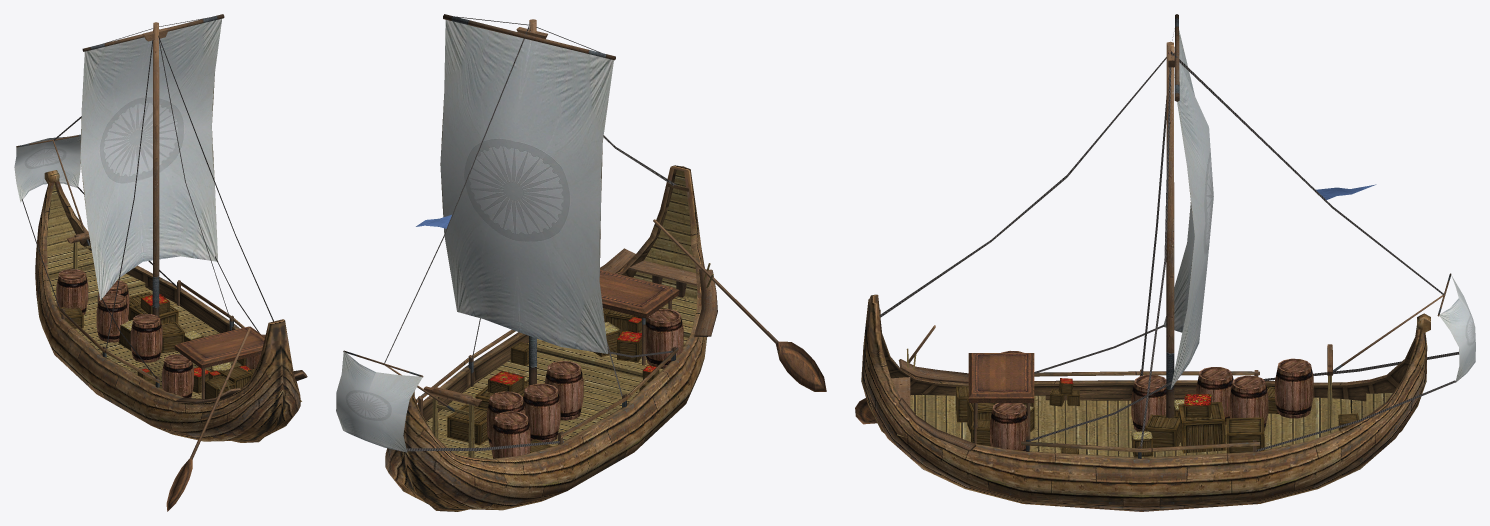
Rendered from maur_merchant_ship.glb.
3 renders of one model, left to right at view 1: azimuth 30°, elevation 25°; view 2: azimuth 150°, elevation 25°; view 3: azimuth 270°, elevation 25°, orthographic. The views are drawn at different scales.
Parts seen in each view (by area): view 1: maur_merchant_ship_part0, maur_merchant_ship_part4, maur_merchant_ship_part2, maur_merchant_ship_part3, maur_merchant_ship_part5; view 2: maur_merchant_ship_part0, maur_merchant_ship_part2, maur_merchant_ship_part5, maur_merchant_ship_part4, maur_merchant_ship_part3, maur_merchant_ship_part1; view 3: maur_merchant_ship_part0, maur_merchant_ship_part3, maur_merchant_ship_part6, maur_merchant_ship_part1, maur_merchant_ship_part4, maur_merchant_ship_part2.
Boxes of the visible parts, x1,y1,x2,y2 form: maur_merchant_ship_part0: (14, 14, 307, 511); maur_merchant_ship_part4: (130, 313, 162, 362); maur_merchant_ship_part2: (96, 293, 128, 342); maur_merchant_ship_part3: (56, 269, 88, 314); maur_merchant_ship_part5: (162, 354, 193, 397); maur_merchant_ship_part0: (336, 14, 826, 511); maur_merchant_ship_part2: (523, 383, 560, 442); maur_merchant_ship_part5: (645, 309, 683, 368); maur_merchant_ship_part4: (544, 361, 583, 420); maur_merchant_ship_part3: (491, 411, 530, 458); maur_merchant_ship_part1: (487, 391, 525, 446); maur_merchant_ship_part0: (855, 14, 1475, 511); maur_merchant_ship_part3: (1275, 358, 1313, 418); maur_merchant_ship_part6: (990, 403, 1028, 450); maur_merchant_ship_part1: (1229, 375, 1268, 430); maur_merchant_ship_part4: (1131, 374, 1166, 431); maur_merchant_ship_part2: (1196, 367, 1233, 424).
Bounding box in the file's own units: 2.39 × 4.45 × 5.5.
2 materials, 2 textured.
